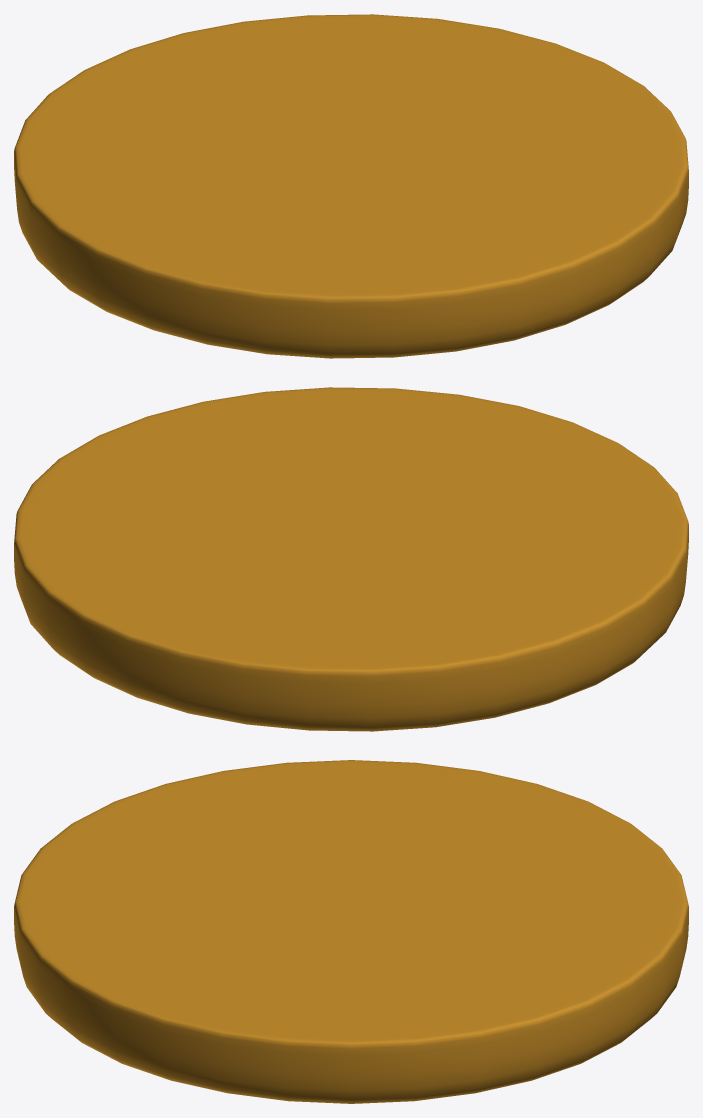
The model's file is bottombun.fbx.
3 renders of one model, top to bottom at view 1: azimuth 30°, elevation 25°; view 2: azimuth 150°, elevation 25°; view 3: azimuth 270°, elevation 25°, orthographic.
Visible parts, largest first — view 1: Circle; view 2: Circle; view 3: Circle.
Part boxes in pixels (left/top/right/bottom): Circle: left=14, top=14, right=688, bottom=358; Circle: left=14, top=387, right=688, bottom=731; Circle: left=14, top=760, right=688, bottom=1103.
Size of the model in its own units: 180 by 20.76 by 180.
